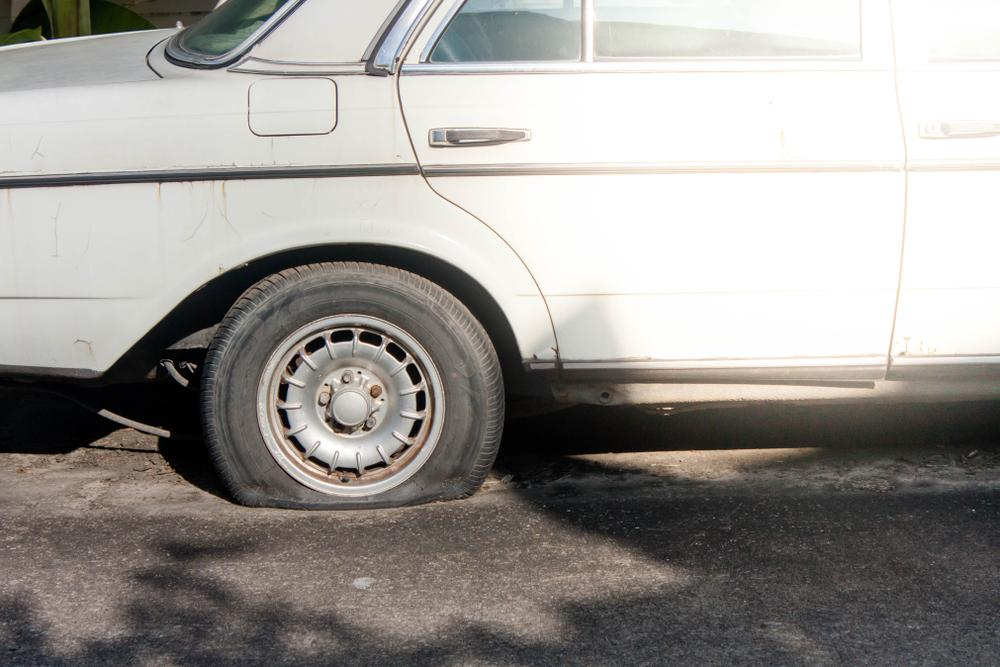tire flat: (202, 257, 511, 511)
